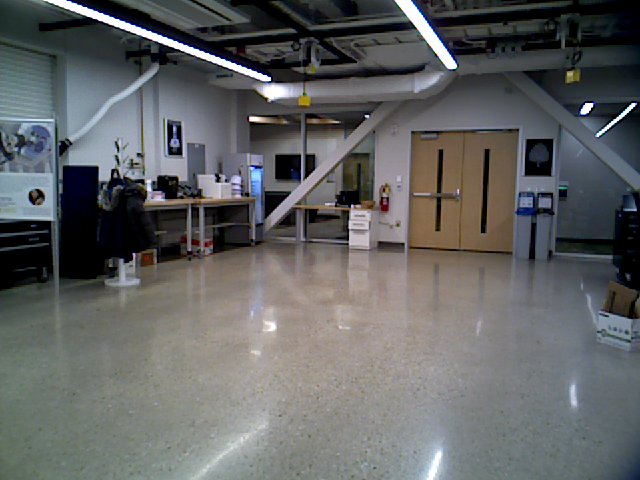painting1: (521, 139, 554, 177)
painting2: (161, 115, 190, 160)
